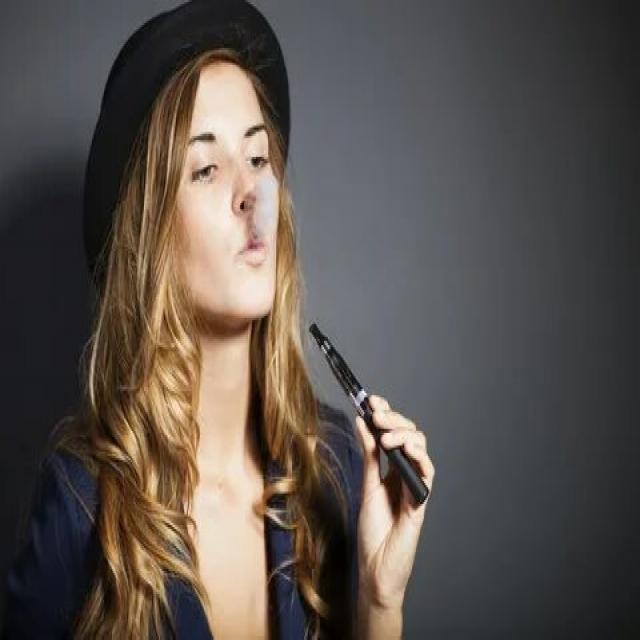smoke: (307, 320, 433, 510)
